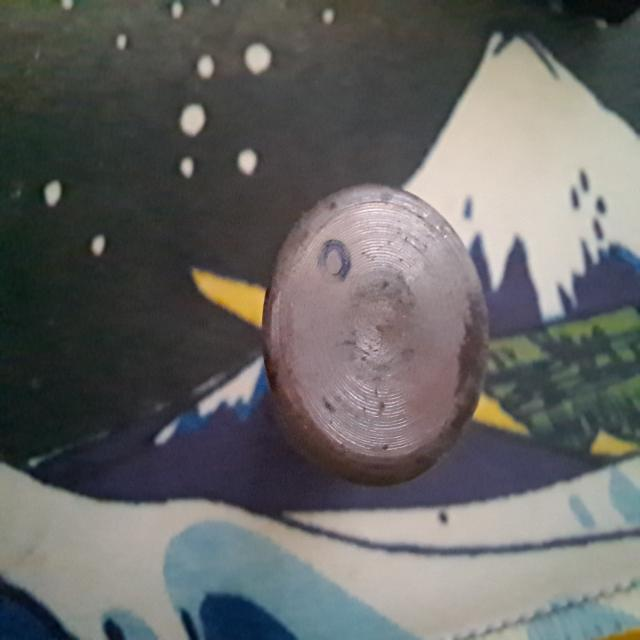defect: (316, 237, 353, 287)
planson: (264, 183, 490, 486)
